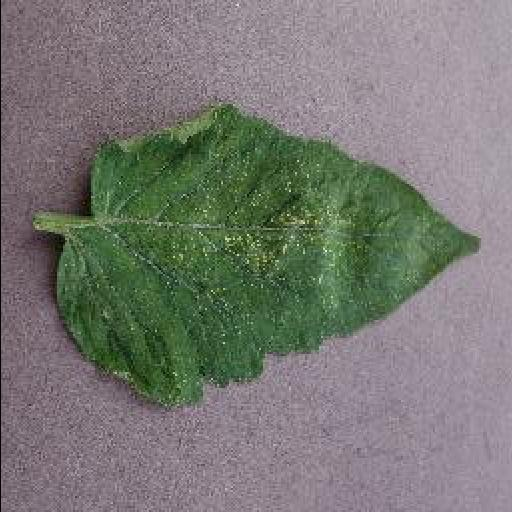disease_tomato: (54, 108, 484, 410)
